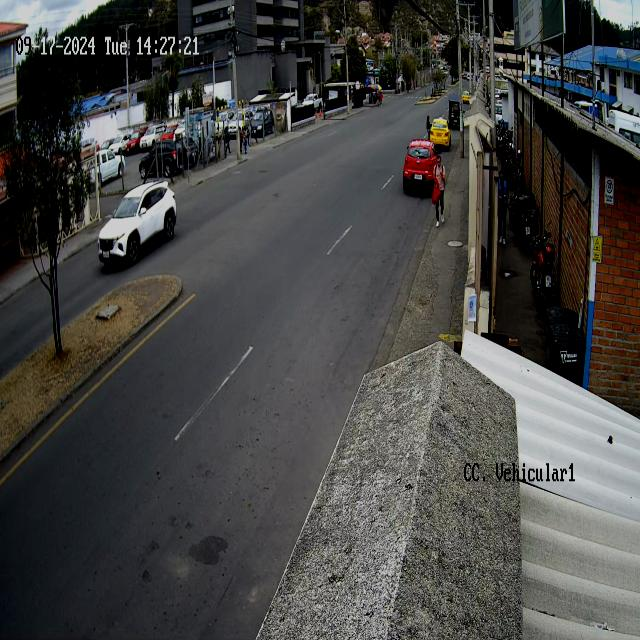SUV: (98, 182, 179, 270)
